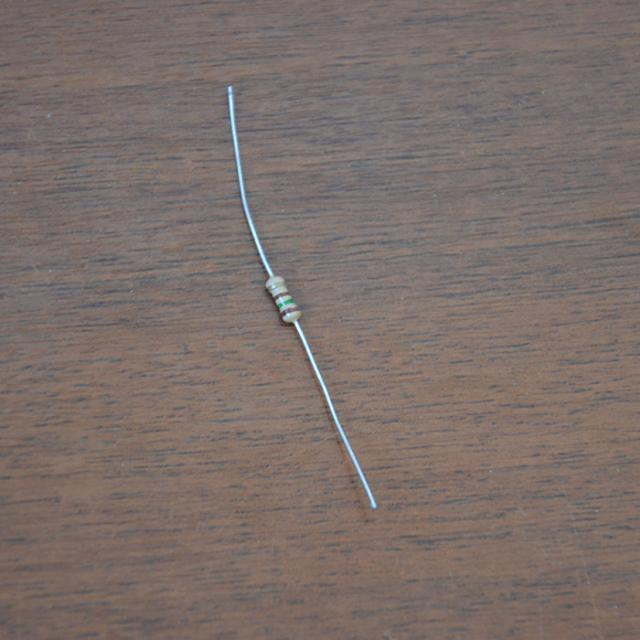brown: (282, 306, 299, 315), (273, 292, 291, 298)
gold: (267, 279, 285, 290)
green: (278, 298, 294, 307)
resistor: (254, 265, 317, 334)
